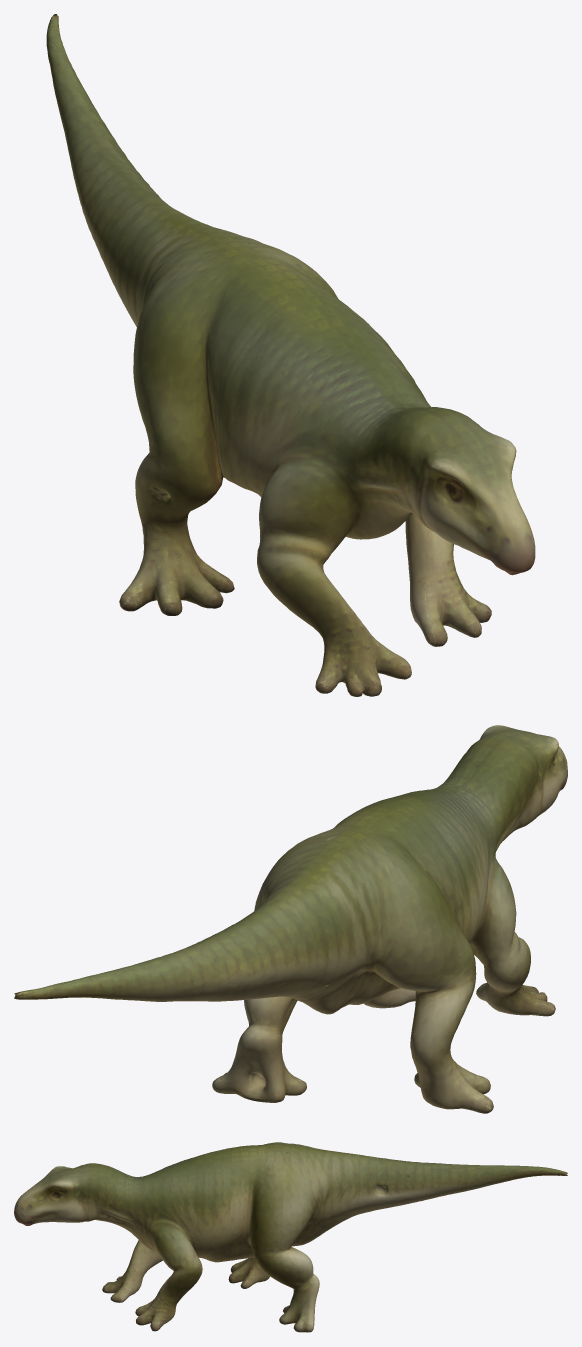
3 views of the same model, one above another, from view 1: azimuth 30°, elevation 25°; view 2: azimuth 150°, elevation 25°; view 3: azimuth 270°, elevation 25° (orthographic). The views are drawn at different scales.
Parts seen in each view (by area): view 1: world; view 2: world; view 3: world.
Part boxes in pixels (left/top/right/bottom): world: left=46, top=14, right=535, bottom=696; world: left=14, top=725, right=567, bottom=1113; world: left=14, top=1142, right=567, bottom=1332.
Bounding box in the file's own units: 1.85 × 2.01 × 6.5.
1 material, 1 textured.
